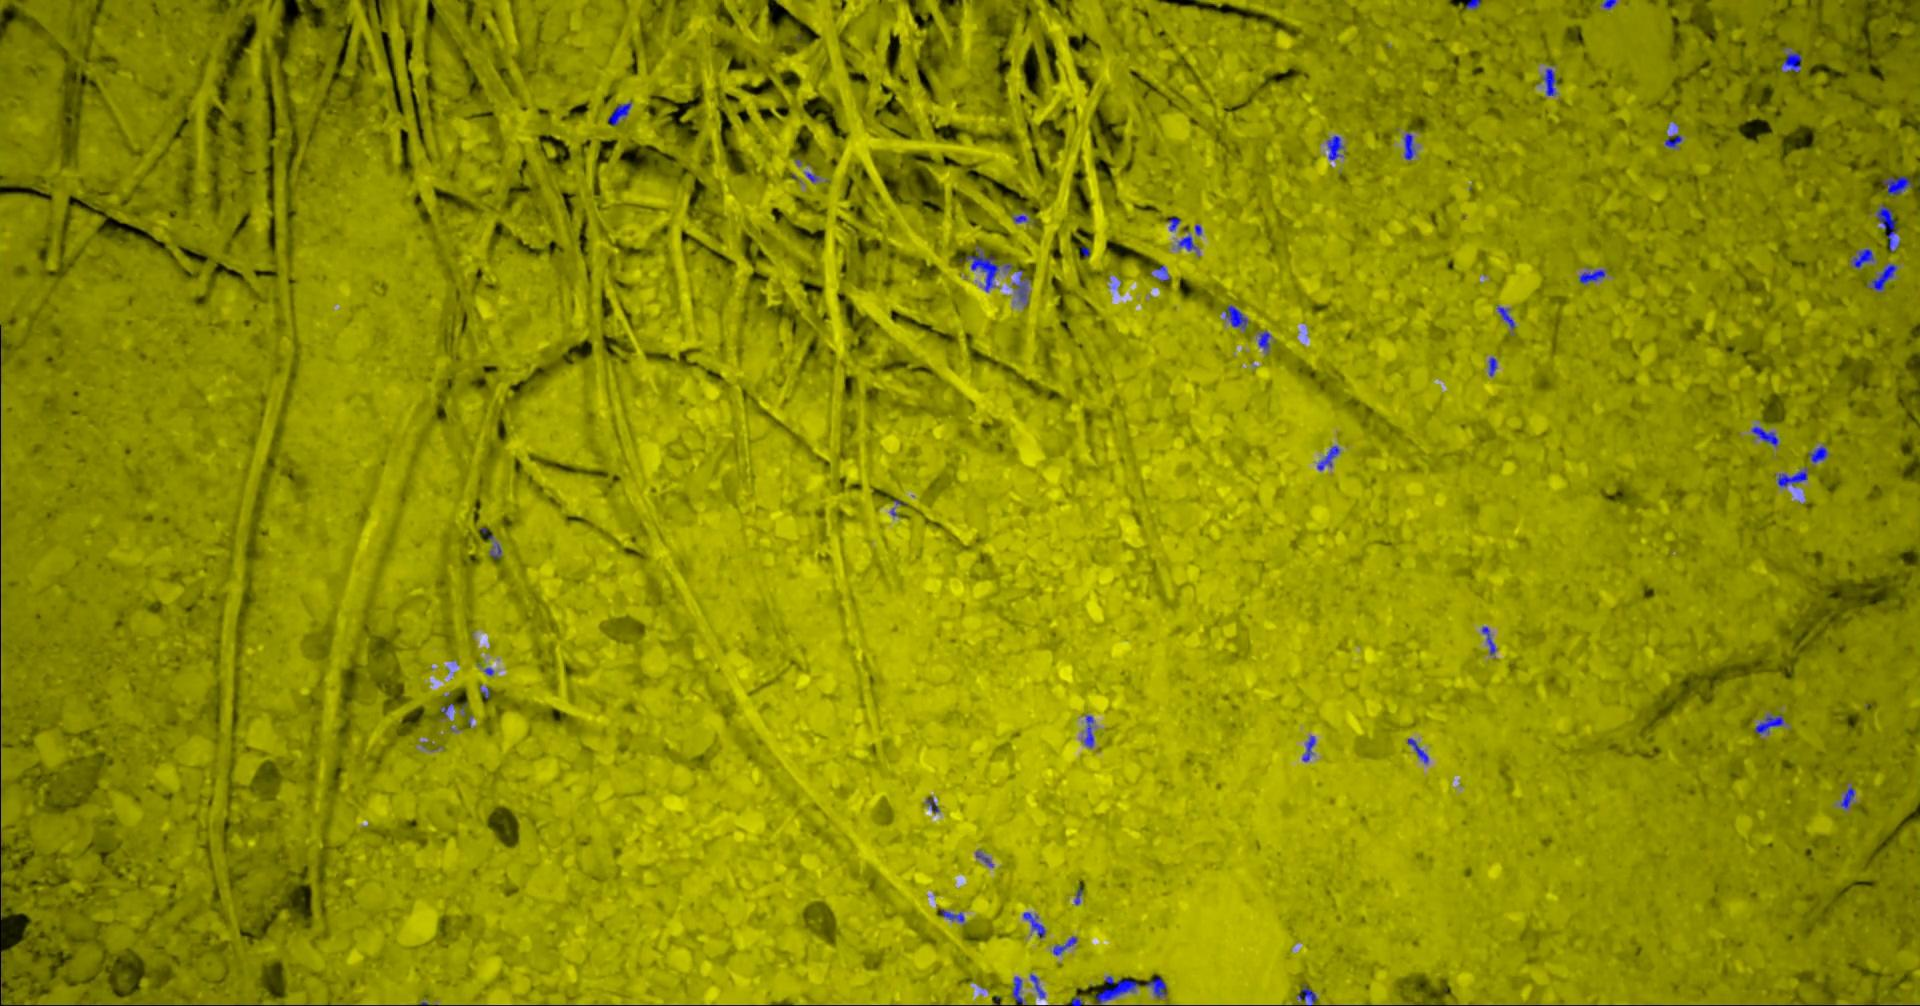ant: (959, 251, 999, 291), (1095, 976, 1138, 1005), (1876, 205, 1898, 251), (1865, 263, 1896, 290), (1882, 175, 1911, 196), (1754, 713, 1783, 733), (1316, 445, 1338, 470), (1777, 467, 1807, 486), (1023, 911, 1045, 937), (1224, 305, 1247, 329), (1407, 738, 1429, 763), (1751, 426, 1778, 446), (607, 102, 630, 124), (1051, 936, 1076, 955), (1780, 51, 1801, 72), (1851, 248, 1873, 268), (1297, 983, 1317, 1005), (1016, 269, 1029, 304), (1326, 135, 1343, 159), (1496, 304, 1514, 328), (1145, 977, 1166, 997), (1481, 626, 1495, 654), (1029, 974, 1045, 997), (1542, 69, 1556, 95), (1578, 269, 1605, 283), (1302, 735, 1316, 761), (1808, 445, 1827, 462), (1011, 976, 1022, 1005), (1839, 786, 1854, 808), (1083, 715, 1093, 747), (1177, 234, 1196, 250), (1403, 133, 1415, 159), (938, 909, 963, 921), (1663, 133, 1681, 147), (1258, 330, 1270, 351), (489, 542, 502, 558), (1167, 216, 1180, 230), (1488, 357, 1496, 376), (1465, 0, 1481, 8), (0, 951, 1, 1005)
